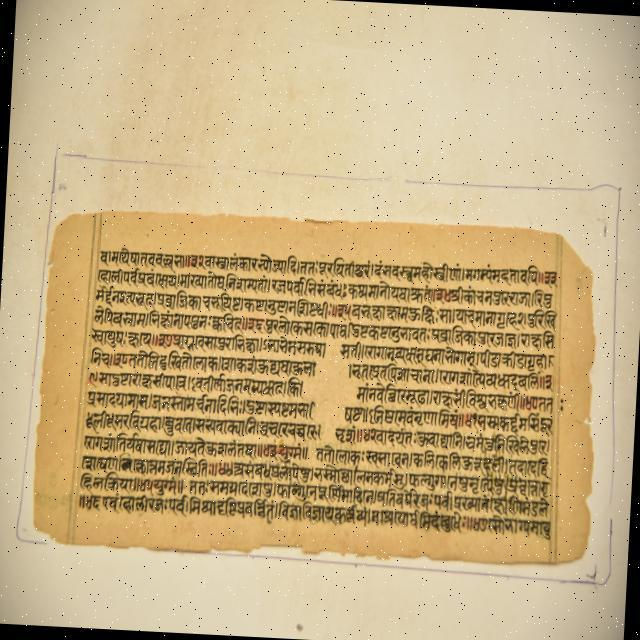text_paragraph: (28, 208, 590, 562)
